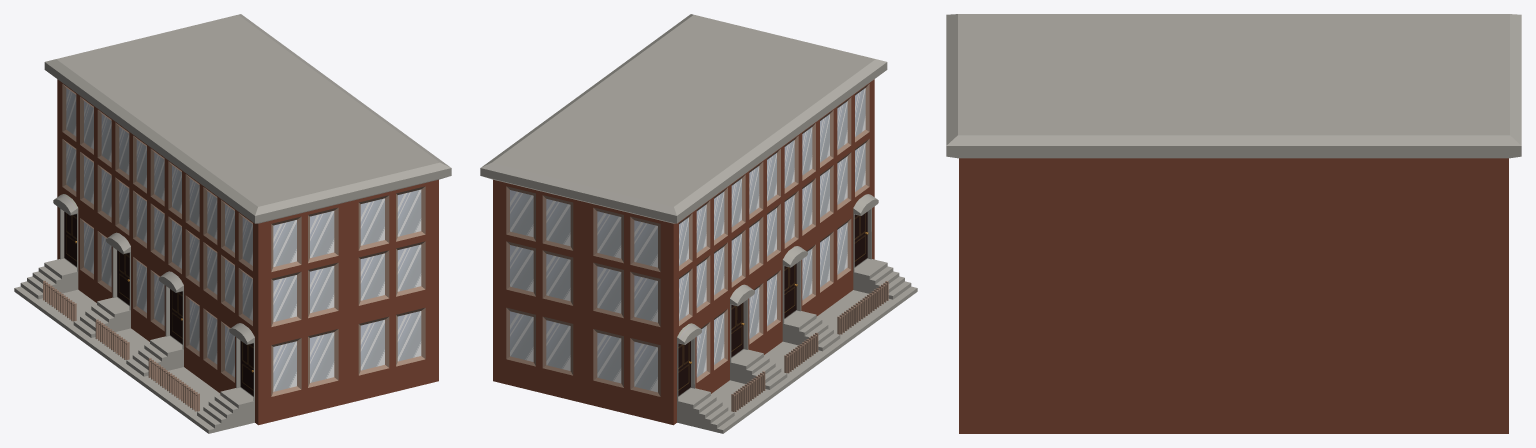
File: Building04WTextures.fbx
3 renders of one model, left to right at view 1: azimuth 30°, elevation 25°; view 2: azimuth 150°, elevation 25°; view 3: azimuth 270°, elevation 25°, orthographic. The views are drawn at different scales.
Visible parts, largest first — view 1: polySurface5; view 2: polySurface5; view 3: polySurface5.
Boxes of the visible parts, bbox=[...] form: polySurface5: bbox=[14, 14, 451, 433]; polySurface5: bbox=[480, 14, 917, 433]; polySurface5: bbox=[946, 14, 1521, 433].
Size of the model in its own units: 107 by 95.47 by 166.
2 materials, 2 textured.
